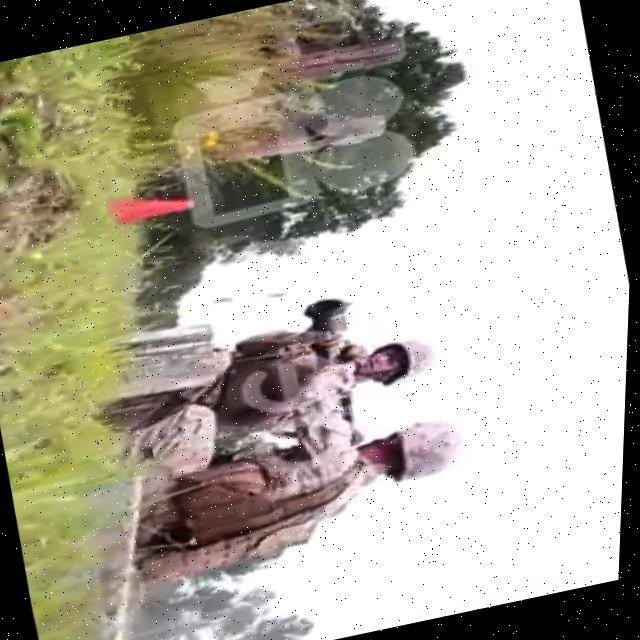rocket: (303, 292, 357, 360)
